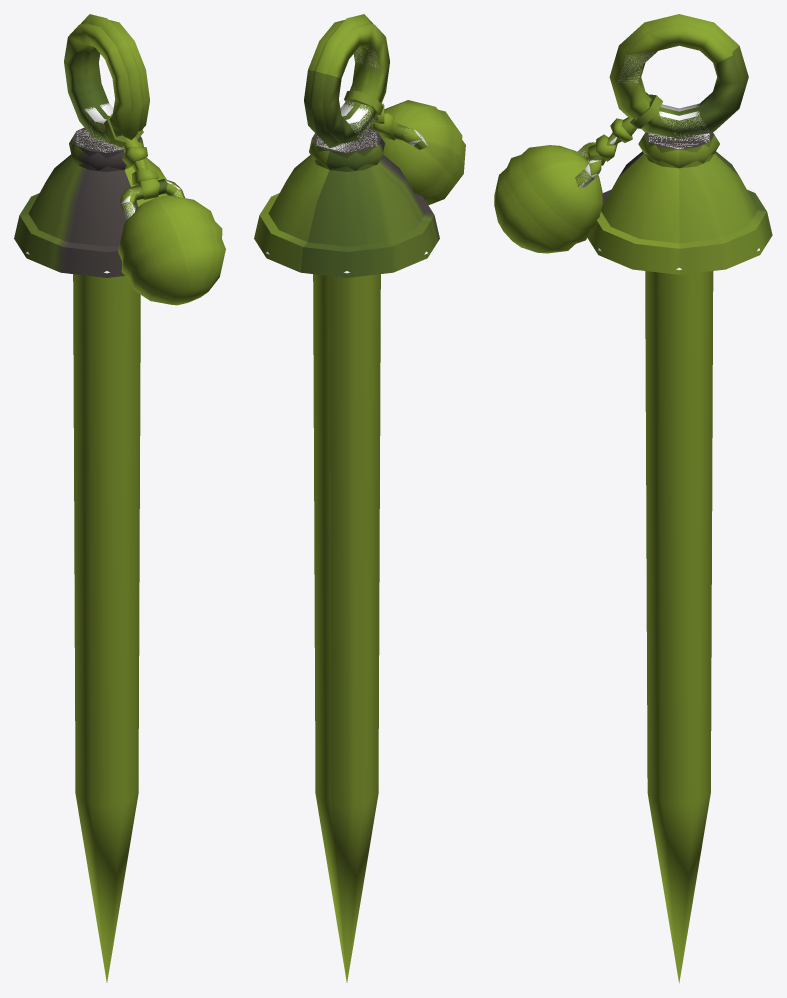
File: objects_un_slshrine01_pile_nw.gltf
3 renders of one model, left to right at view 1: azimuth 30°, elevation 25°; view 2: azimuth 150°, elevation 25°; view 3: azimuth 270°, elevation 25°, orthographic.
Parts seen in each view (by area): view 1: um_objects_un_slshrine01_pile_nw_model_lod0Shape:objects_un_ (×2), um_objects_un_slshrine01_pile_nw_model_lod1Shape:objects_un_; view 2: um_objects_un_slshrine01_pile_nw_model_lod0Shape:objects_un_ (×2), um_objects_un_slshrine01_pile_nw_model_lod1Shape:objects_un_; view 3: um_objects_un_slshrine01_pile_nw_model_lod0Shape:objects_un_ (×2), um_objects_un_slshrine01_pile_nw_model_lod1Shape:objects_un_.
Boxes of the visible parts, bbox=[...] form: um_objects_un_slshrine01_pile_nw_model_lod0Shape:objects_un_ (×2): bbox=[14, 20, 225, 982]; um_objects_un_slshrine01_pile_nw_model_lod1Shape:objects_un_: bbox=[69, 14, 222, 279]; um_objects_un_slshrine01_pile_nw_model_lod0Shape:objects_un_ (×2): bbox=[254, 20, 465, 982]; um_objects_un_slshrine01_pile_nw_model_lod1Shape:objects_un_: bbox=[309, 14, 462, 200]; um_objects_un_slshrine01_pile_nw_model_lod0Shape:objects_un_ (×2): bbox=[494, 24, 772, 983]; um_objects_un_slshrine01_pile_nw_model_lod1Shape:objects_un_: bbox=[506, 14, 748, 243].
Size of the model in its own units: 0.3851 by 2.21 by 0.5735.
2 materials, 1 textured.
